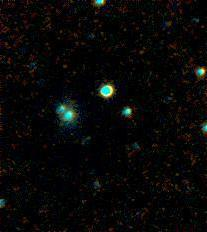star: (74, 123, 104, 153)
